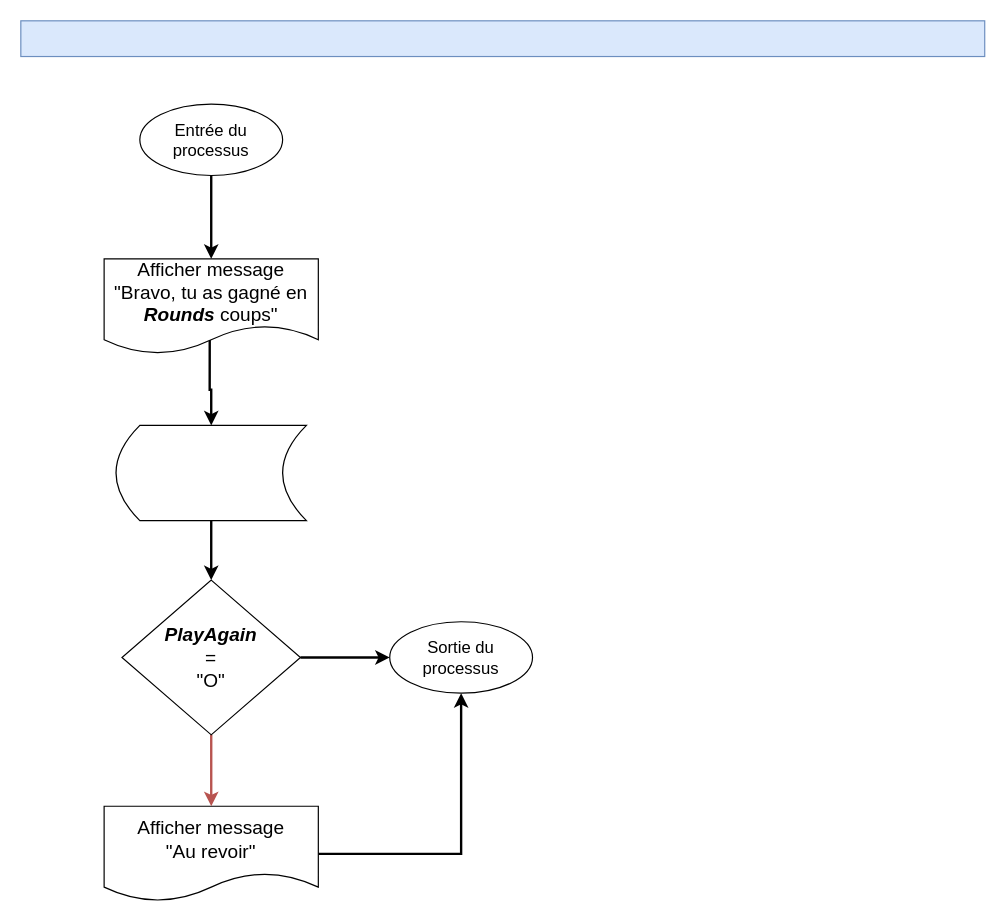
Image size: 1006x922. Some labels were removed from this diagram. The shapes that lost their labels are listed below. From the top down, each one's centre as x and y in pixels, then its label:
the point at 502,38: Diagramme de flux - Mysterious Number - V2 et 3
the point at 210,472: Demander Veux-tu rejouer ? PlayAgain
